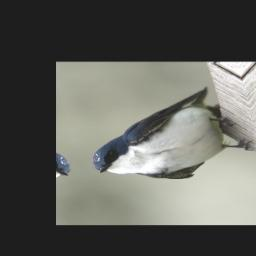Swallow: (73, 84, 256, 187)
